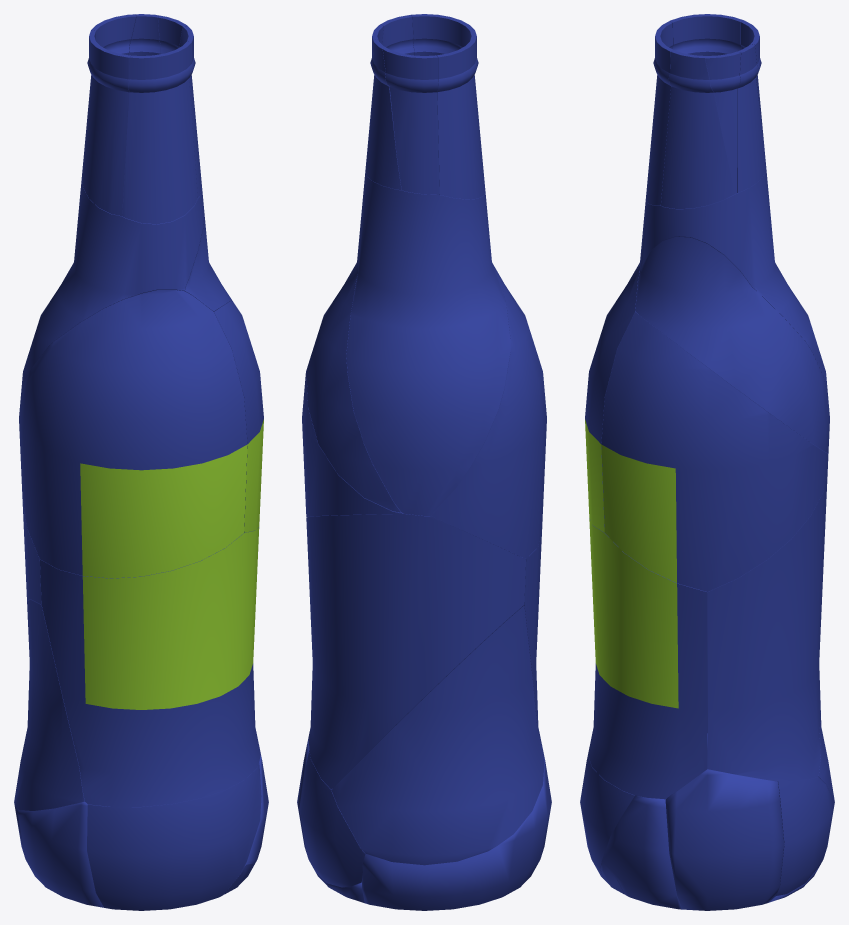
The model's file is next_broken_bottle.fbx.
3 views of the same model, side by side, from view 1: azimuth 30°, elevation 25°; view 2: azimuth 150°, elevation 25°; view 3: azimuth 270°, elevation 25° (orthographic).
Parts seen in each view (by area): view 1: Bottle.001_cell.048, Bottle.001_cell.046, Bottle.001_cell.032, Bottle.001_cell.034, Bottle.001_cell.054, Bottle.001_cell.040, Bottle.001_cell.050, Bottle.001_cell.056, Bottle.001_cell.020, Bottle.001_cell.024, Bottle.001_cell.042, Bottle.001_cell.044 (+4 smaller); view 2: Bottle.001_cell.034, Bottle.001_cell.026, Bottle.001_cell.040, Bottle.001_cell.048, Bottle.001_cell.056, Bottle.001_cell.024, Bottle.001_cell.042, Bottle.001_cell.050, Bottle.001_cell.030, Bottle.001_cell.020, Bottle.001_cell.044, Bottle.001_cell.054 (+2 smaller); view 3: Bottle.001_cell.020, Bottle.001_cell.046, Bottle.001_cell.026, Bottle.001_cell.024, Bottle.001_cell.036, Bottle.001_cell.034, Bottle.001_cell.028, Bottle.001_cell.038, Bottle.001_cell.030, Bottle.001_cell.048, Bottle.001_cell.044, Bottle.001_cell.032 (+5 smaller).
Part boxes in pixels (x1=…): Bottle.001_cell.048: x1=19, y1=289, x2=247, y2=578; Bottle.001_cell.046: x1=40, y1=527, x2=260, y2=806; Bottle.001_cell.032: x1=87, y1=763, x2=261, y2=910; Bottle.001_cell.034: x1=20, y1=177, x2=204, y2=397; Bottle.001_cell.054: x1=122, y1=41, x2=197, y2=224; Bottle.001_cell.040: x1=14, y1=599, x2=84, y2=810; Bottle.001_cell.050: x1=82, y1=30, x2=130, y2=216; Bottle.001_cell.056: x1=14, y1=801, x2=103, y2=907; Bottle.001_cell.020: x1=214, y1=300, x2=263, y2=532; Bottle.001_cell.024: x1=184, y1=213, x2=231, y2=311; Bottle.001_cell.042: x1=91, y1=14, x2=136, y2=54; Bottle.001_cell.044: x1=128, y1=14, x2=160, y2=55; Bottle.001_cell.034: x1=346, y1=172, x2=510, y2=515; Bottle.001_cell.026: x1=306, y1=514, x2=525, y2=789; Bottle.001_cell.040: x1=331, y1=606, x2=544, y2=865; Bottle.001_cell.048: x1=431, y1=264, x2=546, y2=558; Bottle.001_cell.056: x1=362, y1=759, x2=551, y2=910; Bottle.001_cell.024: x1=306, y1=249, x2=401, y2=512; Bottle.001_cell.042: x1=383, y1=48, x2=439, y2=194; Bottle.001_cell.050: x1=437, y1=29, x2=485, y2=199; Bottle.001_cell.030: x1=299, y1=750, x2=365, y2=887; Bottle.001_cell.020: x1=302, y1=369, x2=403, y2=516; Bottle.001_cell.044: x1=365, y1=39, x2=401, y2=190; Bottle.001_cell.054: x1=411, y1=14, x2=473, y2=55; Bottle.001_cell.020: x1=601, y1=312, x2=828, y2=591; Bottle.001_cell.046: x1=588, y1=518, x2=707, y2=799; Bottle.001_cell.026: x1=707, y1=472, x2=827, y2=781; Bottle.001_cell.024: x1=635, y1=236, x2=829, y2=453; Bottle.001_cell.036: x1=665, y1=769, x2=784, y2=910; Bottle.001_cell.034: x1=639, y1=168, x2=828, y2=397; Bottle.001_cell.028: x1=661, y1=50, x2=735, y2=208; Bottle.001_cell.038: x1=601, y1=795, x2=682, y2=909; Bottle.001_cell.030: x1=776, y1=777, x2=834, y2=895; Bottle.001_cell.048: x1=585, y1=262, x2=783, y2=532; Bottle.001_cell.044: x1=737, y1=44, x2=766, y2=192; Bottle.001_cell.032: x1=580, y1=755, x2=634, y2=877.
Size of the model in its own units: 0.2438 by 0.8743 by 0.2438.
